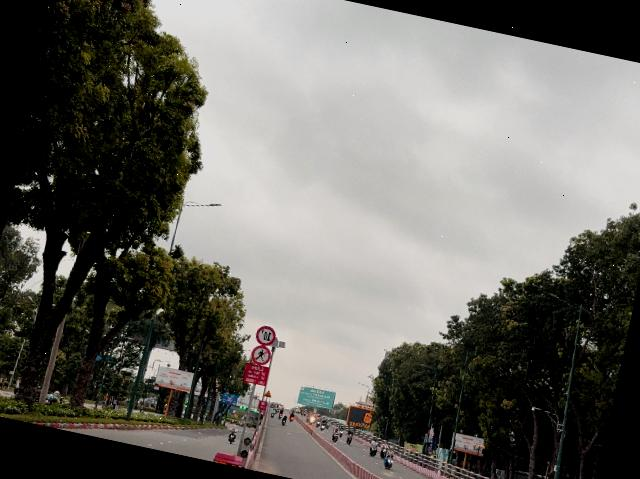cam-nguoi-di-bo: (248, 343, 272, 368)
han-che-trong-luong-xe: (254, 324, 276, 348)
